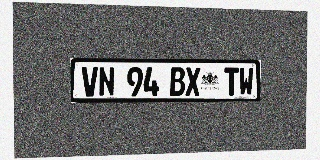4: (143, 67, 159, 96)
9: (127, 67, 143, 96)
B: (170, 67, 185, 96)
N: (98, 67, 115, 97)
T: (224, 67, 239, 96)
V: (82, 67, 98, 97)
W: (239, 67, 253, 96)
X: (185, 67, 200, 96)
